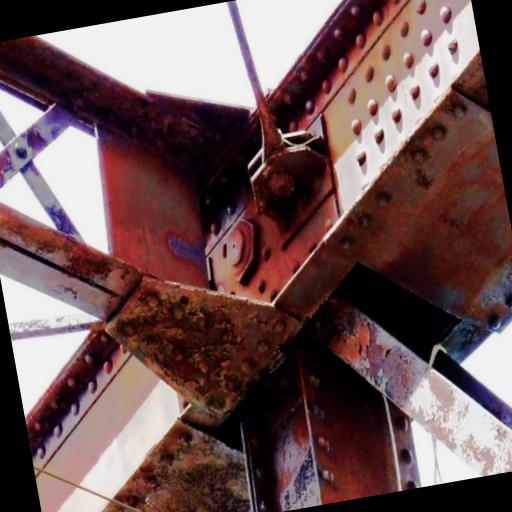segmentation: (0, 35, 260, 235), (275, 188, 512, 320), (106, 275, 304, 425), (273, 0, 373, 127), (118, 421, 250, 512)
